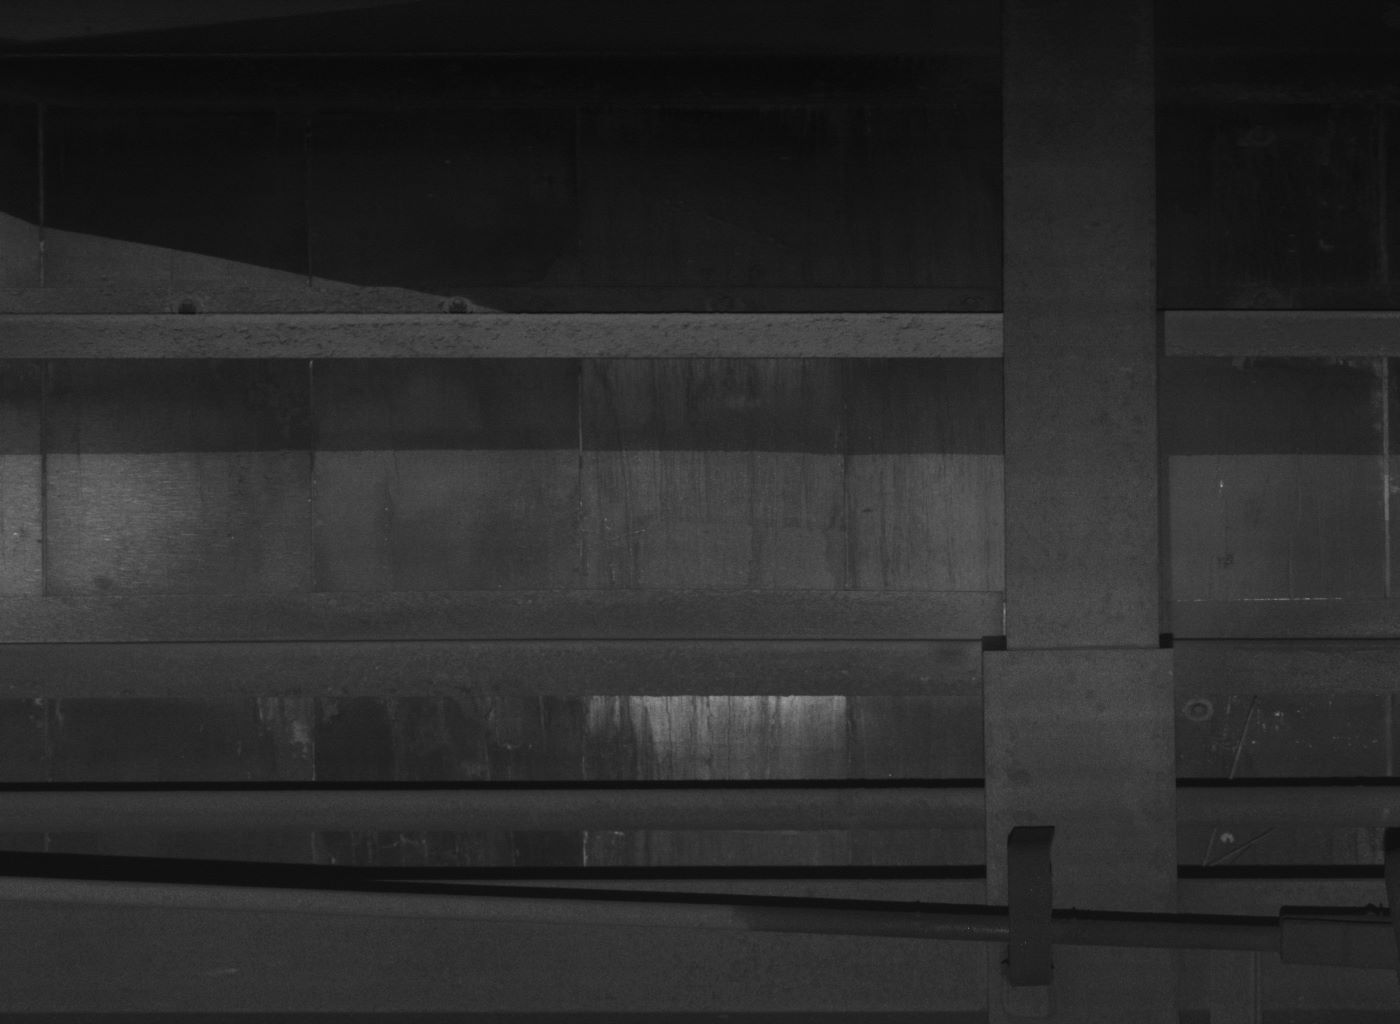normal: (1008, 823, 1058, 984)
